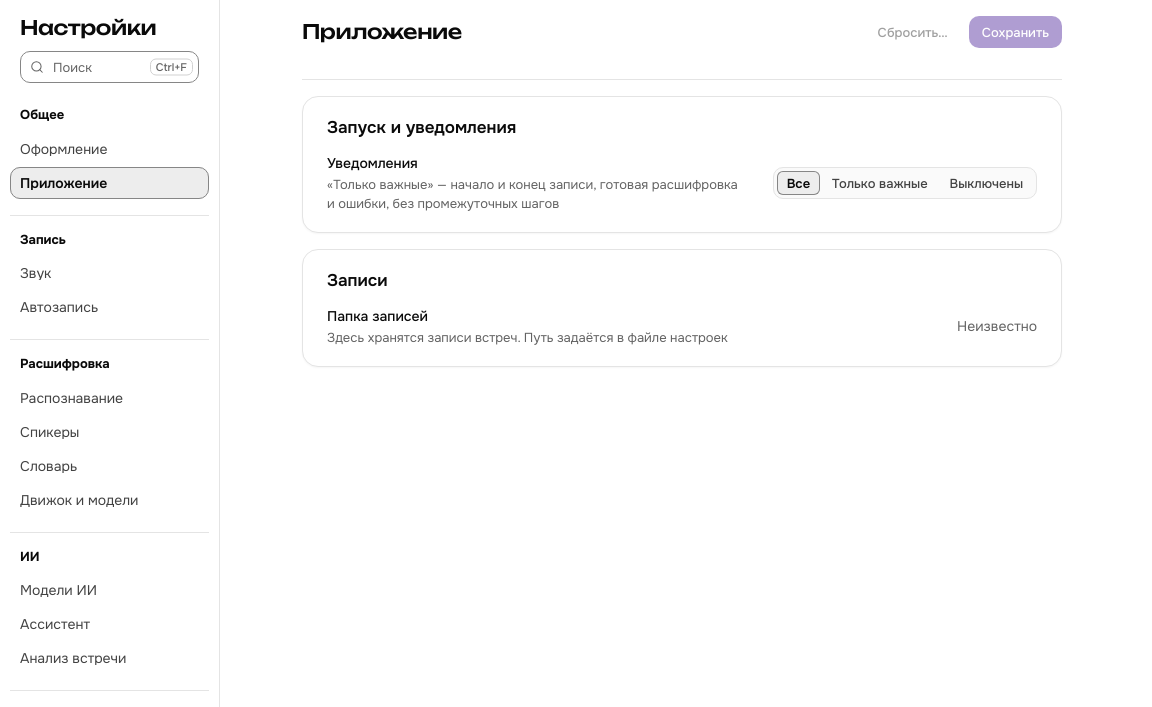
обычная строка не раскрывает «Тонкую настройку»
The width and height of the screenshot is (1152, 707).
expect the element named "Уведомления" is shown: met, box [773,167,1037,199]
Step 1. Type "язык речи" into the dropdown named "Поиск по настройкам" → (110, 67), box [20,51,199,83]
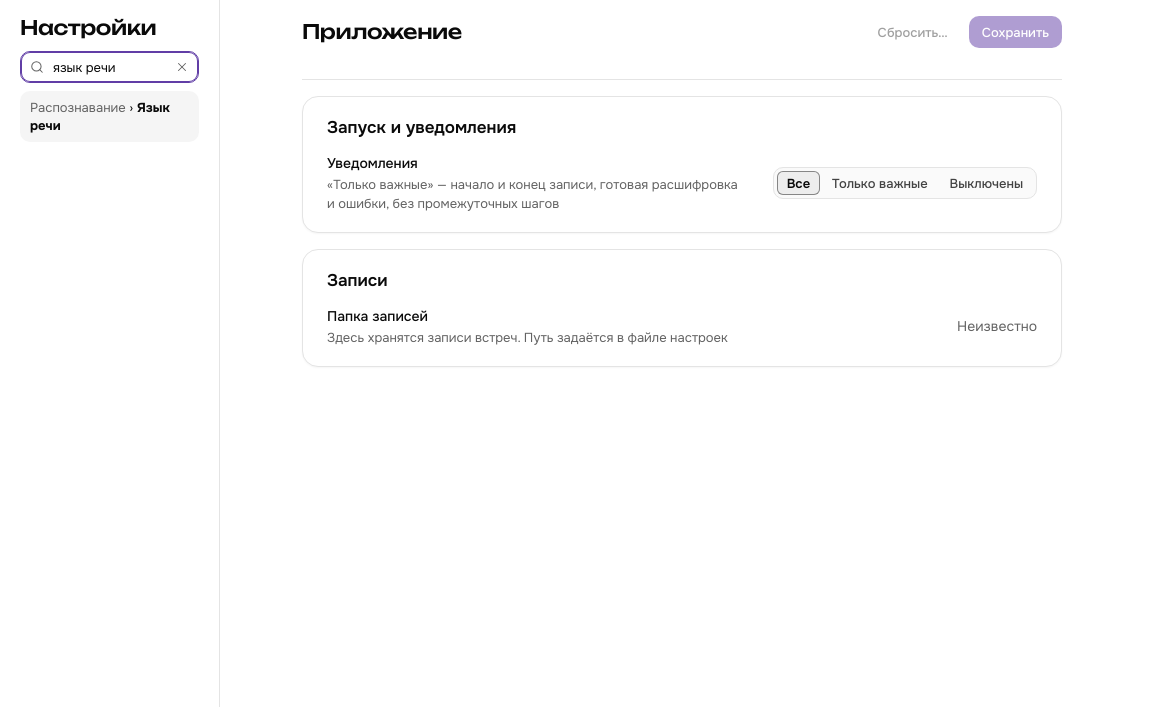
Step 2. Press Enter
(page scrolled)
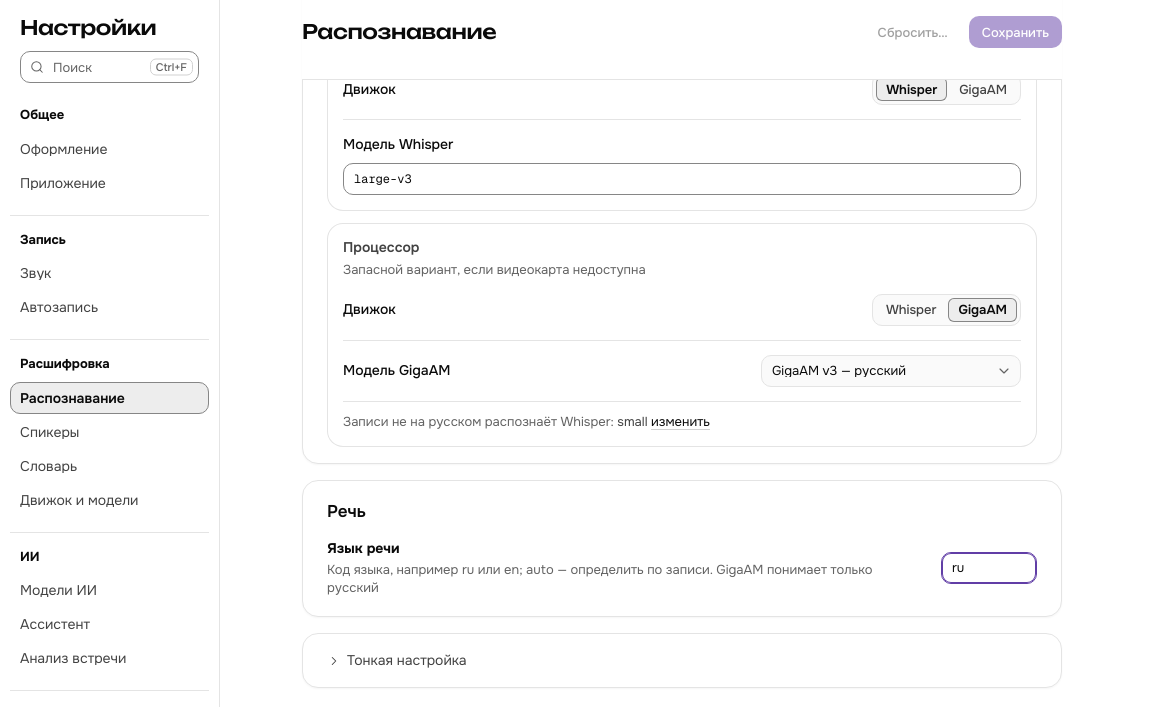
expect the heading "Распознавание" is shown: met, box [302,19,496,44]
